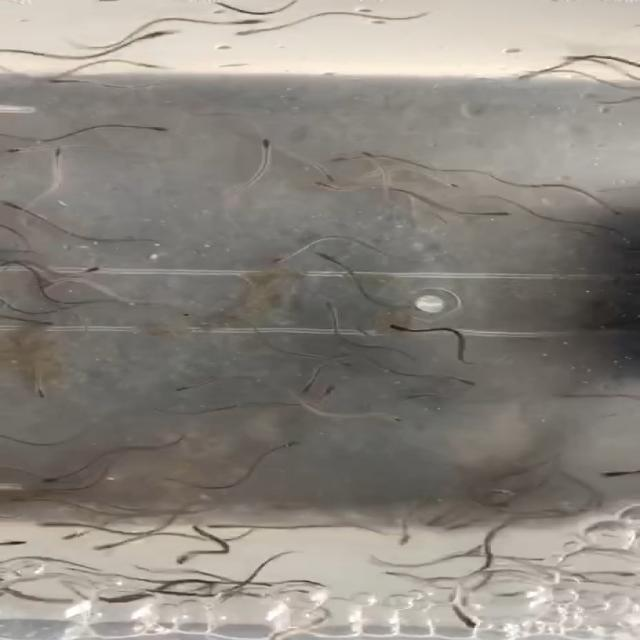active_glass_eel: (229, 18, 282, 40), (164, 546, 210, 566), (29, 274, 74, 292), (226, 15, 283, 29), (26, 518, 78, 532), (308, 251, 352, 267), (452, 608, 481, 632), (51, 524, 94, 540), (380, 318, 418, 336), (246, 134, 274, 158), (136, 59, 183, 73), (375, 413, 418, 428), (355, 147, 387, 167), (20, 381, 52, 401), (23, 315, 65, 330), (269, 434, 304, 452), (131, 124, 179, 137), (302, 179, 346, 193), (89, 536, 130, 551), (134, 31, 180, 44), (43, 147, 71, 168), (268, 250, 304, 266), (424, 175, 462, 190), (319, 380, 349, 399), (390, 530, 417, 551), (4, 143, 44, 157), (440, 375, 480, 389), (31, 77, 92, 86), (36, 470, 70, 486), (595, 469, 640, 481), (555, 52, 596, 65), (313, 166, 340, 185), (187, 522, 229, 534), (290, 380, 324, 394), (0, 196, 25, 215), (164, 384, 201, 396), (518, 70, 550, 83), (329, 152, 366, 163), (0, 537, 33, 549), (478, 208, 516, 218), (318, 296, 340, 313), (70, 265, 100, 277), (320, 357, 354, 367)
